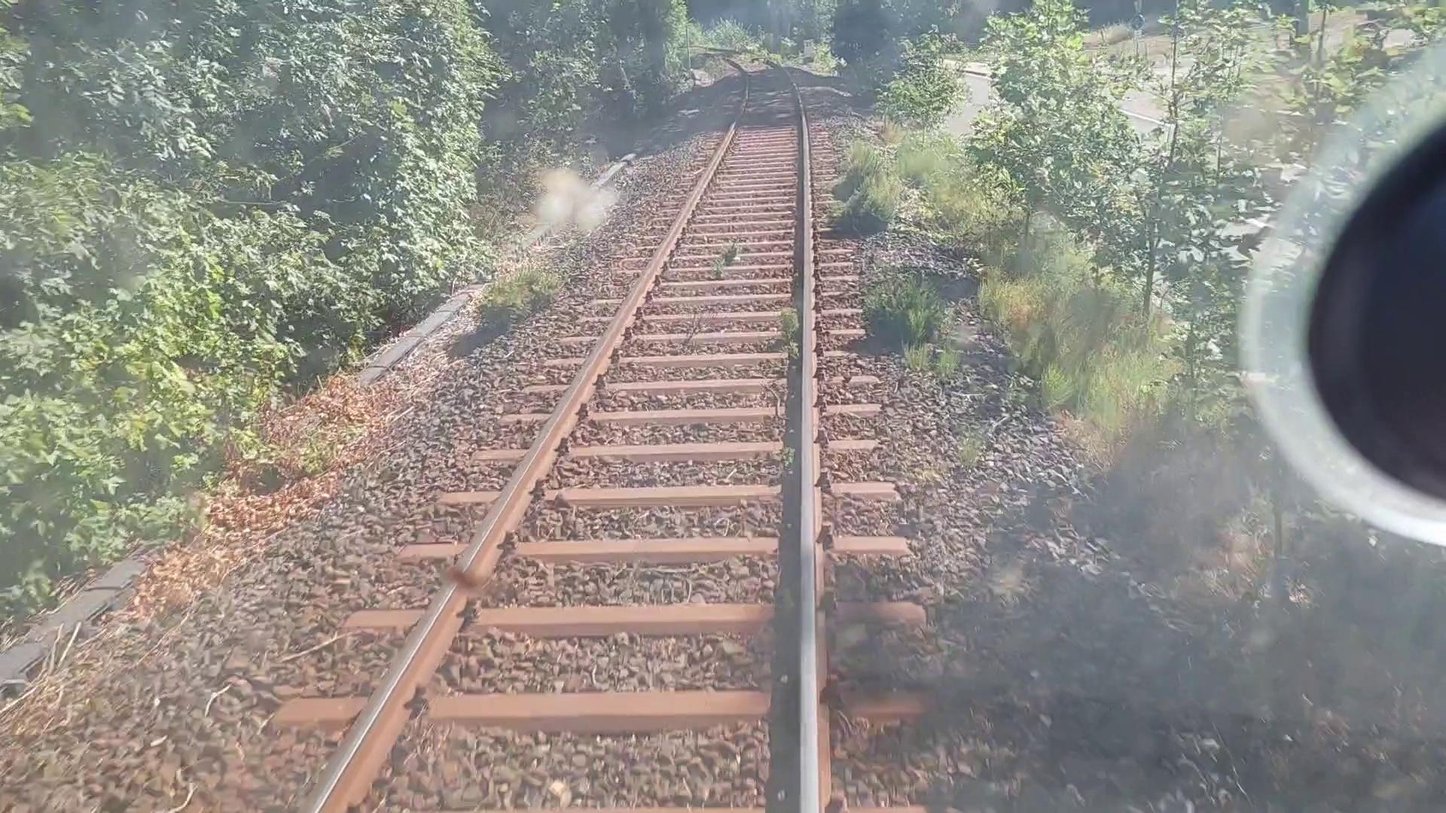Plant: (844, 130, 1290, 490), (867, 279, 964, 371), (250, 417, 357, 488), (481, 265, 560, 339), (775, 308, 799, 360), (724, 237, 739, 267)
